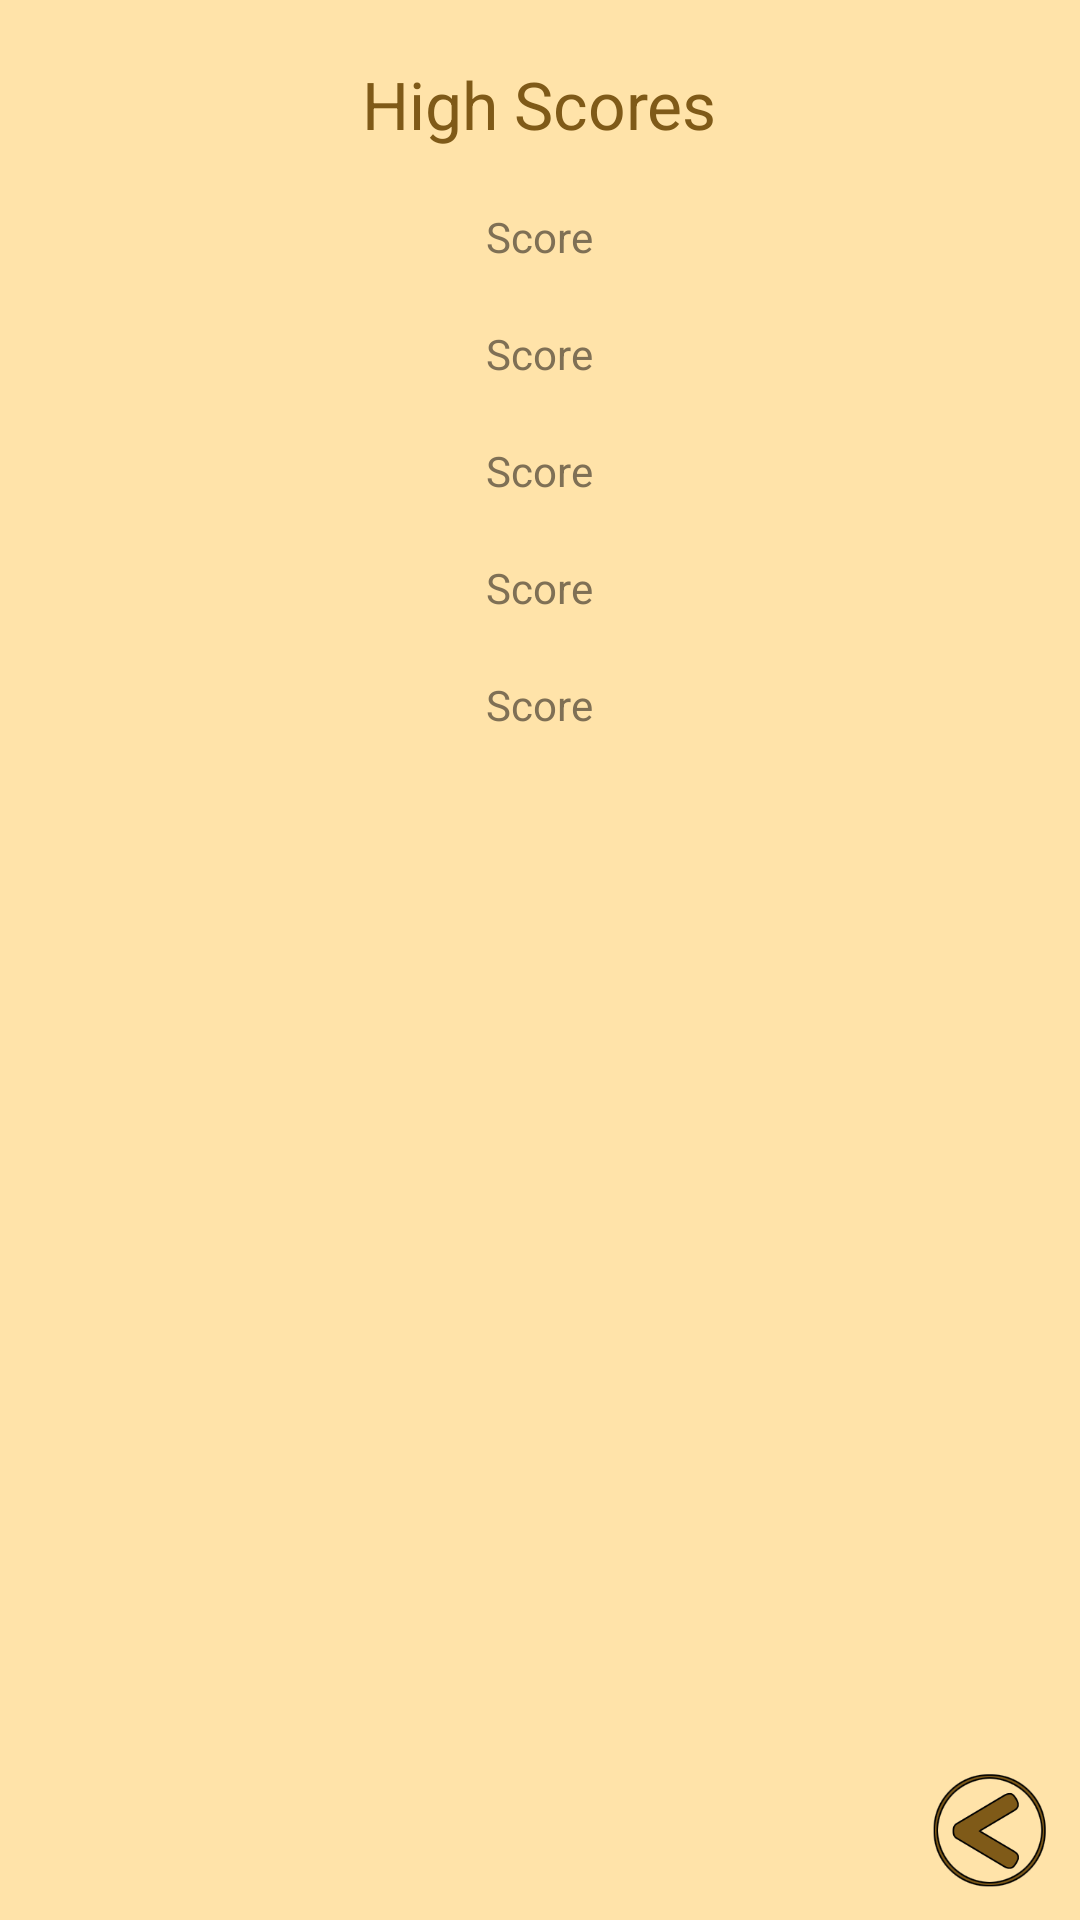

Point at icon controls on the screen. Image size 1080x1920, points as (x=x, y=y).
backarrow: (x=989, y=1830)
